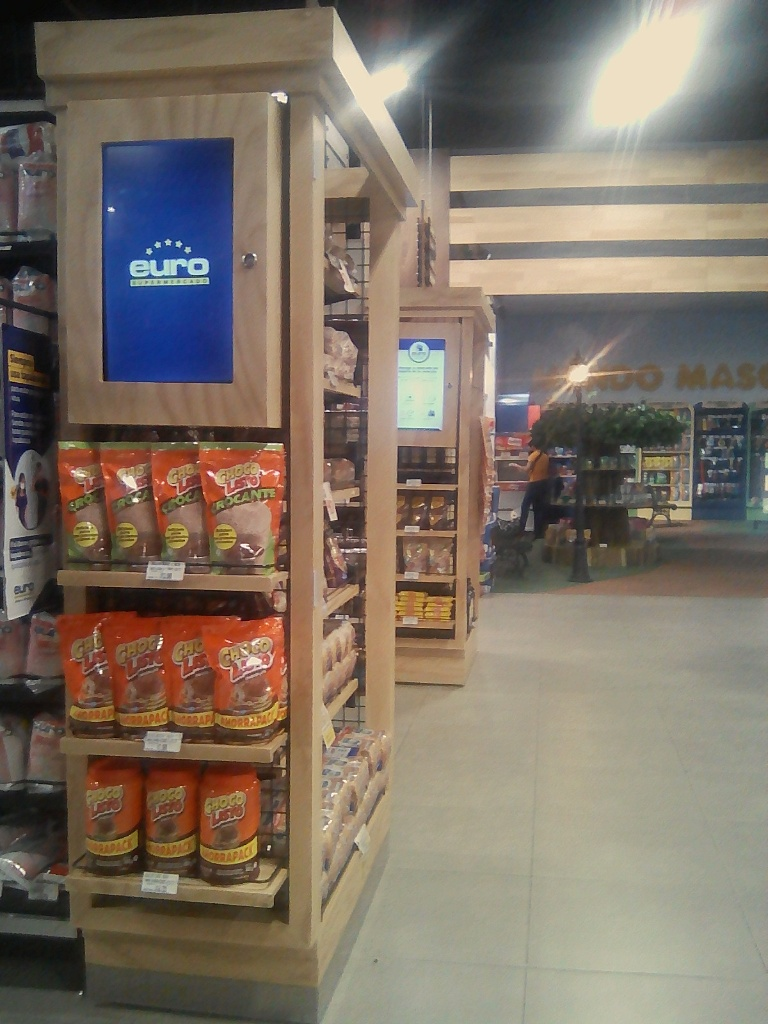COL0170103DYP44000: (54, 613, 127, 741)
